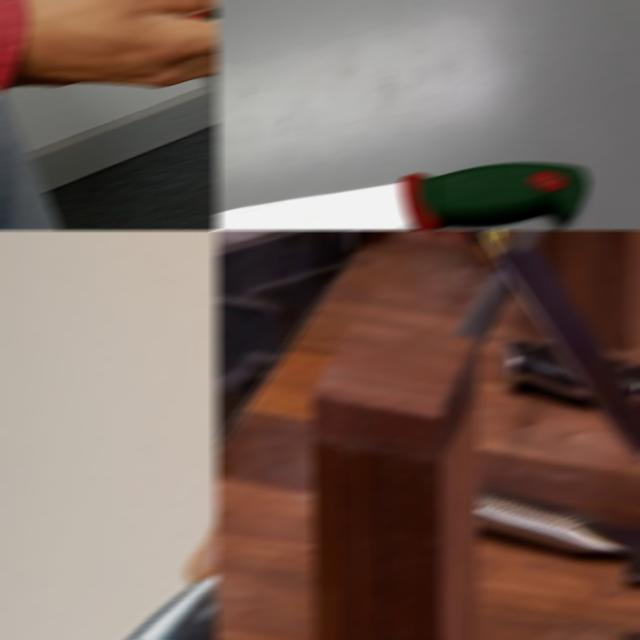Knife: (379, 230, 640, 558), (215, 163, 590, 230), (0, 528, 219, 640), (476, 486, 640, 611), (502, 340, 640, 452)
Knife_Handle: (0, 270, 219, 640)
